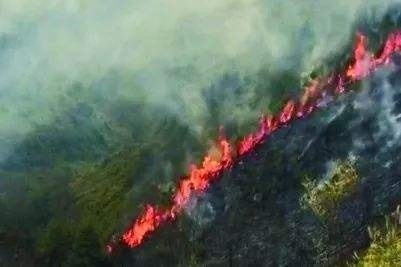fire: (126, 41, 385, 249)
